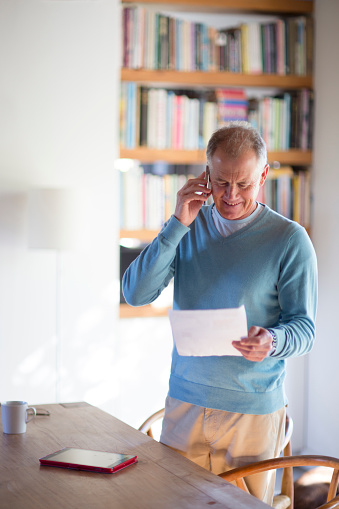em pe: (117, 129, 326, 495)
